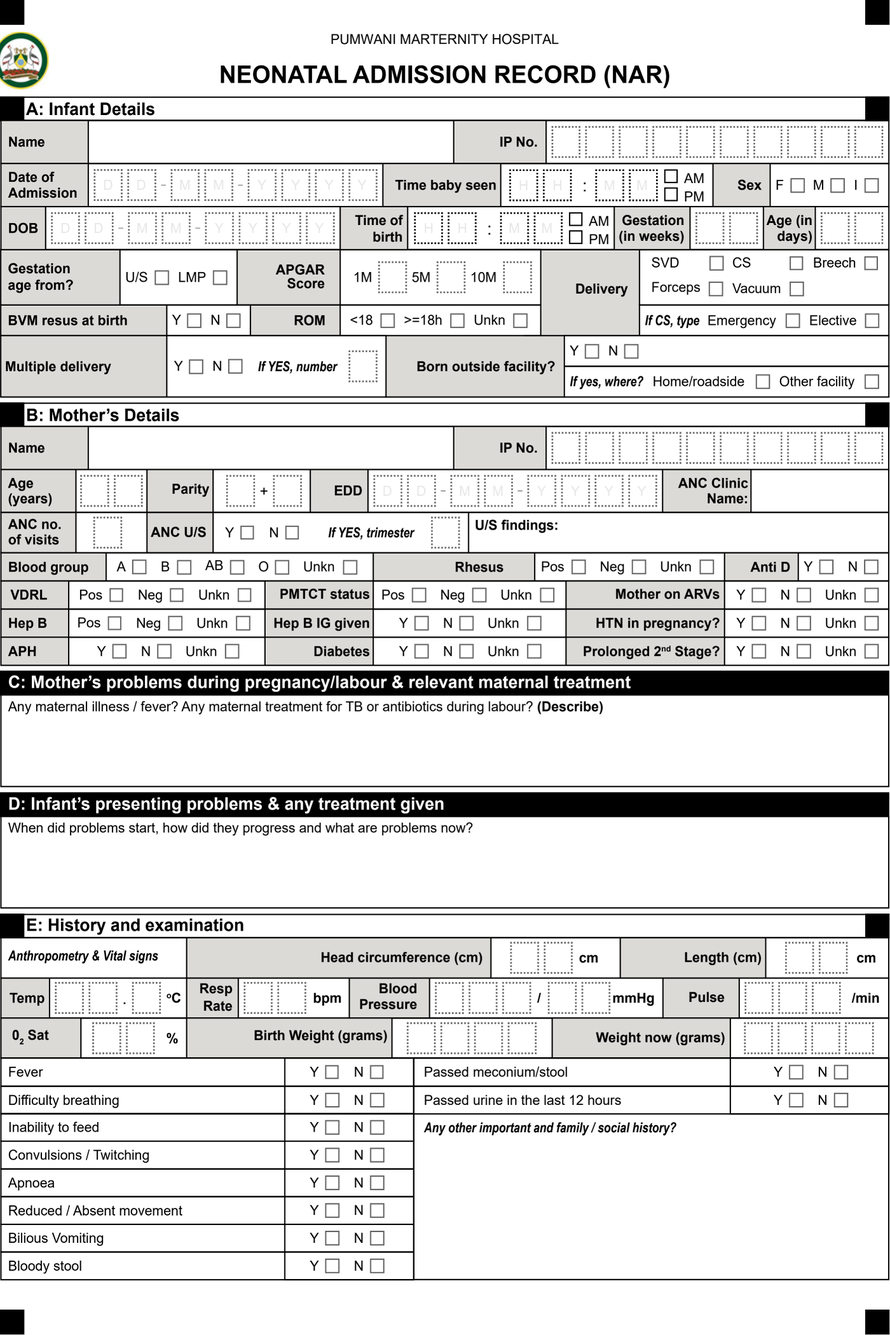age_days_1: (819, 211, 851, 245)
age_days_2: (853, 211, 884, 245)
age_days_combined: (818, 209, 887, 247)
age_years_1: (79, 474, 110, 508)
age_years_2: (113, 474, 144, 508)
age_years_combined: (78, 472, 145, 510)
anc_us_no: (283, 523, 301, 542)
anc_us_yes: (238, 524, 256, 542)
anc_visits_num: (92, 516, 123, 550)
anc_visits_trimester: (430, 516, 461, 550)
anti_d_no: (862, 558, 880, 577)
anti_d_yes: (817, 558, 835, 577)
apgar_10m_1: (502, 261, 533, 294)
apgar_1m_1: (378, 261, 408, 294)
apgar_5m_1: (435, 261, 466, 294)
aph_no: (155, 642, 174, 661)
aph_unkown: (223, 642, 242, 661)
aph_yes: (110, 642, 128, 661)
apnoea_no: (368, 1174, 387, 1192)
apnoea_yes: (323, 1174, 341, 1192)
bba_facility: (863, 372, 881, 391)
bba_home: (753, 372, 772, 391)
bba_no: (622, 342, 641, 361)
bba_yes: (583, 342, 601, 361)
birth_weight_1: (406, 1021, 437, 1055)
birth_weight_2: (439, 1021, 470, 1055)
birth_weight_3: (473, 1021, 504, 1055)
birth_weight_4: (507, 1021, 538, 1055)
birth_weight_combined: (399, 1020, 542, 1057)
blood_group_a: (130, 558, 149, 577)
blood_group_ab: (228, 558, 247, 577)
blood_group_b: (175, 558, 193, 577)
blood_group_o: (273, 558, 291, 577)
blood_group_unknown: (341, 558, 360, 577)
blood_pressure_1: (434, 981, 465, 1015)
blood_pressure_2: (467, 981, 498, 1015)
blood_pressure_3: (501, 981, 532, 1015)
blood_pressure_4: (547, 981, 578, 1015)
blood_pressure_5: (580, 981, 612, 1015)
blood_pressure_combined: (431, 980, 611, 1017)
bvm_resuscitation_no: (224, 312, 243, 330)
bvm_resuscitation_yes: (185, 312, 203, 330)
convulsions_no: (368, 1146, 387, 1165)
convulsions_yes: (323, 1146, 341, 1165)
cs_elective: (863, 312, 882, 330)
cs_emergency: (783, 312, 802, 330)
date_admission_1: (93, 168, 124, 202)
date_admission_2: (127, 168, 157, 202)
date_admission_3: (170, 168, 201, 202)
date_admission_4: (203, 168, 235, 202)
date_admission_5: (247, 168, 278, 202)
date_admission_6: (280, 168, 312, 202)
date_admission_7: (314, 168, 345, 202)
date_admission_8: (347, 168, 379, 202)
date_admission_combined: (90, 165, 382, 204)
date_birth_1: (50, 211, 81, 245)
date_birth_2: (83, 211, 114, 245)
date_birth_3: (127, 211, 158, 245)
date_birth_4: (160, 211, 191, 245)
date_birth_5: (204, 211, 235, 245)
date_birth_6: (238, 211, 269, 245)
date_birth_7: (271, 211, 302, 245)
date_birth_8: (305, 211, 336, 245)
date_birth_combined: (46, 208, 338, 247)
date_edd_1: (373, 474, 404, 508)
date_edd_2: (406, 474, 437, 508)
date_edd_3: (449, 474, 481, 508)
date_edd_4: (483, 474, 514, 508)
date_edd_5: (526, 474, 558, 508)
date_edd_6: (560, 474, 591, 508)
date_edd_7: (594, 474, 625, 508)
date_edd_8: (627, 474, 659, 508)
date_edd_combined: (370, 472, 661, 510)
delivery_breech: (862, 254, 880, 272)
delivery_cs: (788, 254, 805, 272)
delivery_forceps: (706, 280, 725, 298)
delivery_svd: (708, 254, 726, 273)
delivery_vacuum: (788, 280, 806, 298)
diabetes_negative: (457, 642, 476, 661)
diabetes_positive: (412, 642, 431, 661)
diabetes_unknown: (525, 642, 544, 661)
diarhoea_no: (368, 1257, 387, 1275)
diarhoea_yes: (323, 1257, 341, 1275)
difficulty_breathing_no: (368, 1091, 387, 1109)
difficulty_breathing_yes: (323, 1091, 341, 1109)
difficulty_feeding_no: (368, 1118, 387, 1137)
difficulty_feeding_yes: (323, 1118, 341, 1137)
fever_no: (368, 1063, 386, 1081)
fever_yes: (323, 1063, 341, 1081)
floppy_no: (368, 1201, 387, 1220)
floppy_yes: (323, 1201, 341, 1220)
gestation_1: (694, 211, 725, 245)
gestation_2: (728, 211, 759, 245)
gestation_combined: (694, 209, 762, 247)
gestation_lmp: (210, 268, 229, 287)
gestation_us: (153, 268, 172, 287)
head_circumfrence_1: (509, 941, 540, 975)
head_circumfrence_2: (543, 941, 574, 975)
head_circumfrence_combined: (505, 939, 577, 976)
hepb_ig_given_negative: (457, 613, 476, 633)
hepb_ig_given_positive: (412, 613, 431, 633)
hepb_ig_given_unkown: (525, 613, 544, 633)
hepb_no: (166, 613, 184, 633)
hepb_unkown: (234, 613, 252, 633)
hepb_yes: (106, 614, 123, 633)
htn_pregnancy_negative: (795, 613, 813, 633)
htn_pregnancy_positive: (750, 613, 769, 633)
htn_pregnancy_unknown: (862, 613, 881, 633)
length_1: (784, 941, 816, 975)
length_2: (819, 940, 850, 975)
length_combined: (779, 940, 854, 976)
meconium_no: (832, 1063, 851, 1081)
meconium_yes: (787, 1063, 805, 1081)
multiple_delivery_no: (226, 357, 245, 376)
multiple_delivery_num: (347, 349, 379, 383)
multiple_delivery_yes: (187, 357, 205, 376)
mum_arvs_negative: (795, 585, 813, 605)
mum_arvs_positive: (750, 585, 769, 605)
mum_arvs_unkown: (862, 585, 881, 605)
parity_combined: (222, 472, 307, 510)
parity_dead: (272, 474, 303, 508)
parity_live: (225, 474, 256, 508)
pmtct_negative: (470, 585, 489, 605)
pmtct_positive: (409, 585, 428, 605)
pmtct_unkown: (538, 585, 556, 605)
prolonged_stage2_negative: (795, 642, 813, 661)
prolonged_stage2_positive: (750, 642, 769, 661)
prolonged_stage2_unknown: (862, 642, 881, 661)
pulse_oximetry_1: (91, 1021, 122, 1055)
pulse_oximetry_2: (125, 1021, 156, 1055)
pulse_oximetry_combined: (87, 1020, 161, 1059)
pulse_rate_1: (743, 981, 775, 1015)
pulse_rate_2: (777, 981, 808, 1015)
pulse_rate_3: (811, 981, 842, 1015)
pulse_rate_combined: (740, 980, 843, 1017)
resp_rate_1: (243, 981, 274, 1015)
resp_rate_2: (276, 981, 308, 1015)
resp_rate_combined: (241, 978, 308, 1017)
rhesus_negative: (629, 558, 648, 577)
rhesus_positive: (570, 558, 588, 577)
rhesus_unknown: (697, 558, 716, 577)
rom_ge18: (448, 312, 467, 330)
rom_lt18: (378, 312, 397, 330)
rom_unknown: (511, 312, 530, 330)
sex_female: (788, 176, 807, 195)
sex_intermediate: (862, 176, 881, 195)
sex_male: (828, 176, 847, 195)
temp_1: (54, 981, 85, 1015)
temp_2: (88, 981, 119, 1015)
temp_3: (131, 981, 162, 1015)
temp_combined: (53, 980, 165, 1015)
time_birth_1: (413, 212, 444, 245)
time_birth_2: (447, 212, 477, 245)
time_birth_3: (500, 212, 530, 245)
time_birth_4: (533, 212, 563, 245)
time_birth_am: (567, 210, 584, 228)
time_birth_combined: (411, 210, 566, 247)
time_birth_pm: (567, 228, 584, 246)
time_seen_1: (509, 168, 539, 202)
time_seen_2: (542, 168, 573, 202)
time_seen_3: (594, 168, 625, 202)
time_seen_4: (628, 168, 659, 202)
time_seen_am: (662, 168, 680, 185)
time_seen_combined: (506, 167, 661, 204)
time_seen_pm: (662, 186, 680, 203)
urine_no: (832, 1091, 851, 1109)
urine_yes: (787, 1091, 805, 1109)
vdrl_no: (168, 586, 186, 604)
vdrl_unkown: (236, 586, 254, 604)
vdrl_yes: (107, 586, 125, 604)
vomiting_no: (368, 1229, 387, 1248)
vomiting_yes: (323, 1229, 341, 1248)
weight_now_1: (743, 1021, 774, 1055)
weight_now_2: (777, 1021, 808, 1055)
weight_now_3: (810, 1021, 842, 1055)
weight_now_4: (844, 1021, 875, 1055)
weight_now_combined: (736, 1020, 878, 1058)
